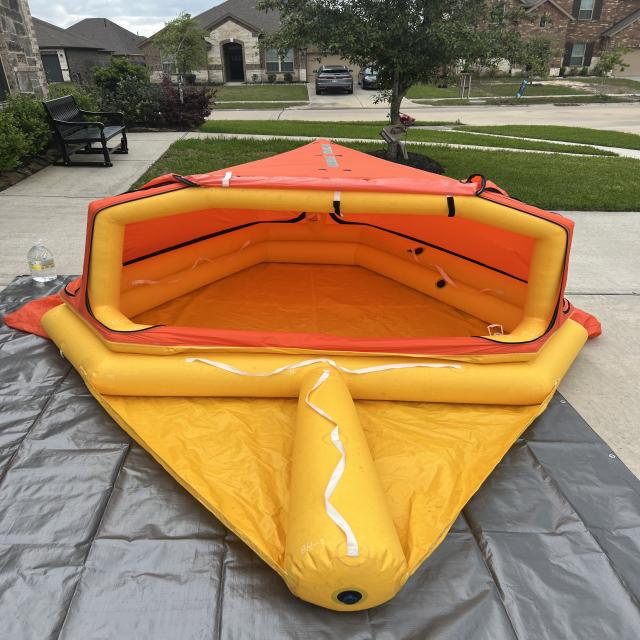Multi-person_life_raft: (2, 135, 602, 612)
